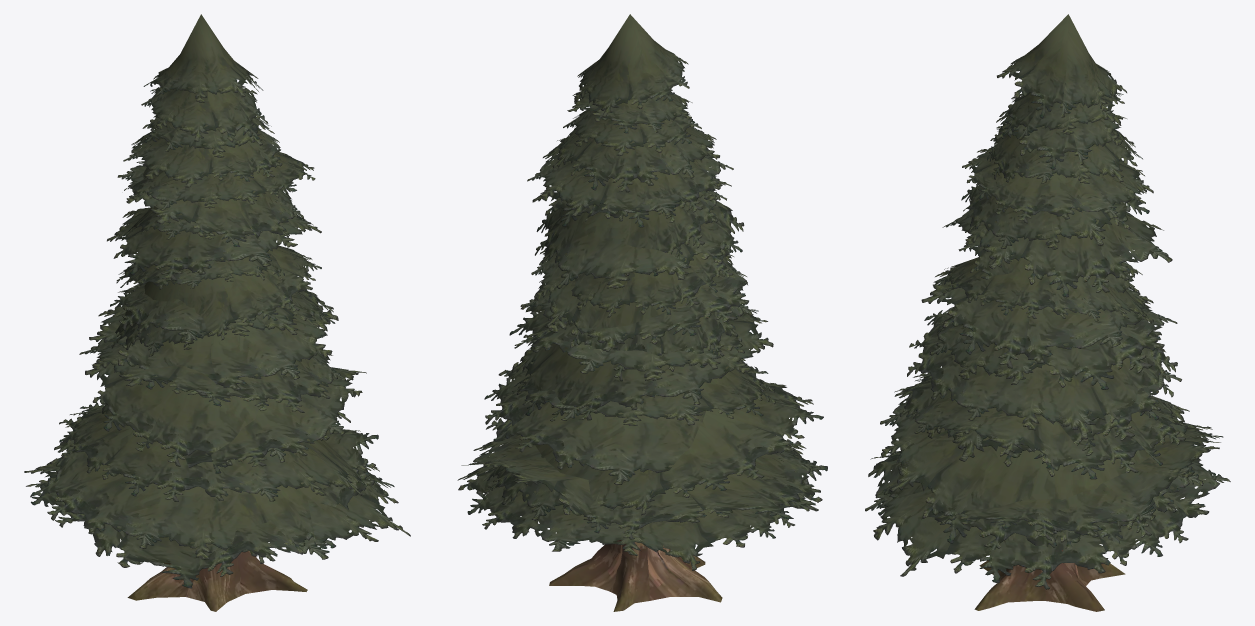
3 views of the same model, side by side, from view 1: azimuth 30°, elevation 25°; view 2: azimuth 150°, elevation 25°; view 3: azimuth 270°, elevation 25° (orthographic). The views are drawn at different scales.
Visible parts, largest first — view 1: body0_model0_lod0_mesh0; view 2: body0_model0_lod0_mesh0; view 3: body0_model0_lod0_mesh0.
Boxes of the visible parts, x1,y1,x2,y2 form: body0_model0_lod0_mesh0: (24,14,410,611); body0_model0_lod0_mesh0: (457,14,827,611); body0_model0_lod0_mesh0: (865,14,1230,611).
Bounding box in the file's own units: 489 × 774 × 471.
Materials: 1 (1 with a texture image).
